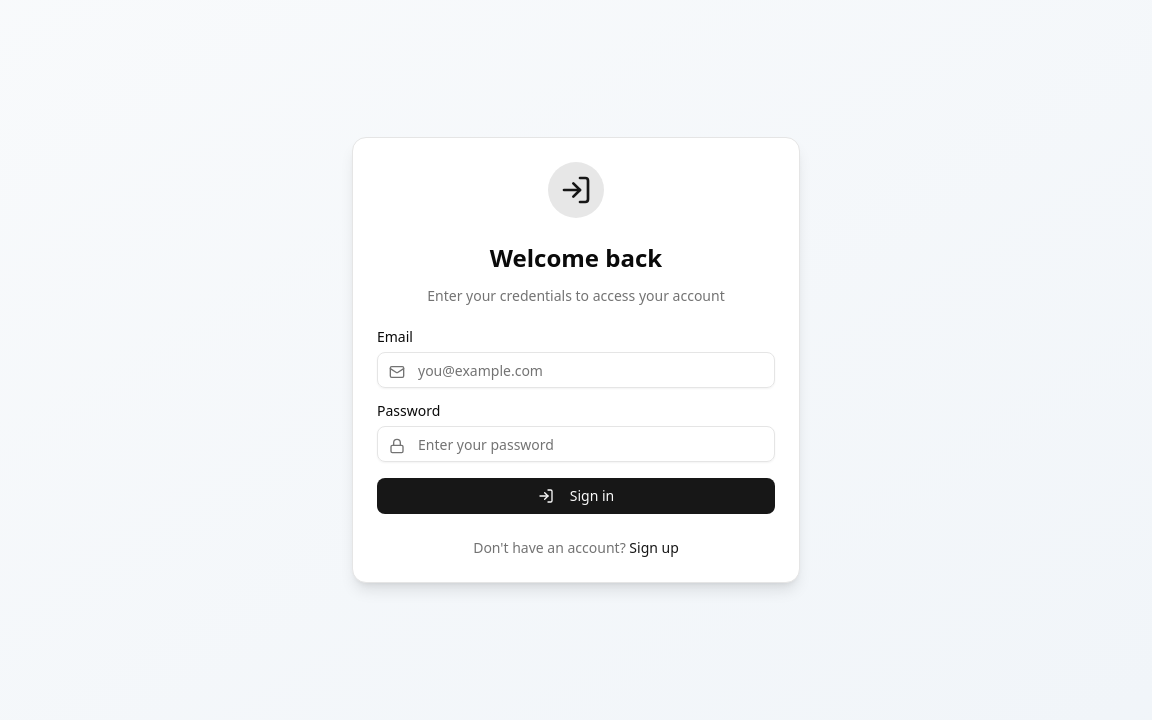
Test: Login › sends an individual login into the recovery-gated workflow
The image size is (1152, 720).
In the field with placeholder "you@example.com": (576, 370) [377,352,775,388], type "person@example.com"
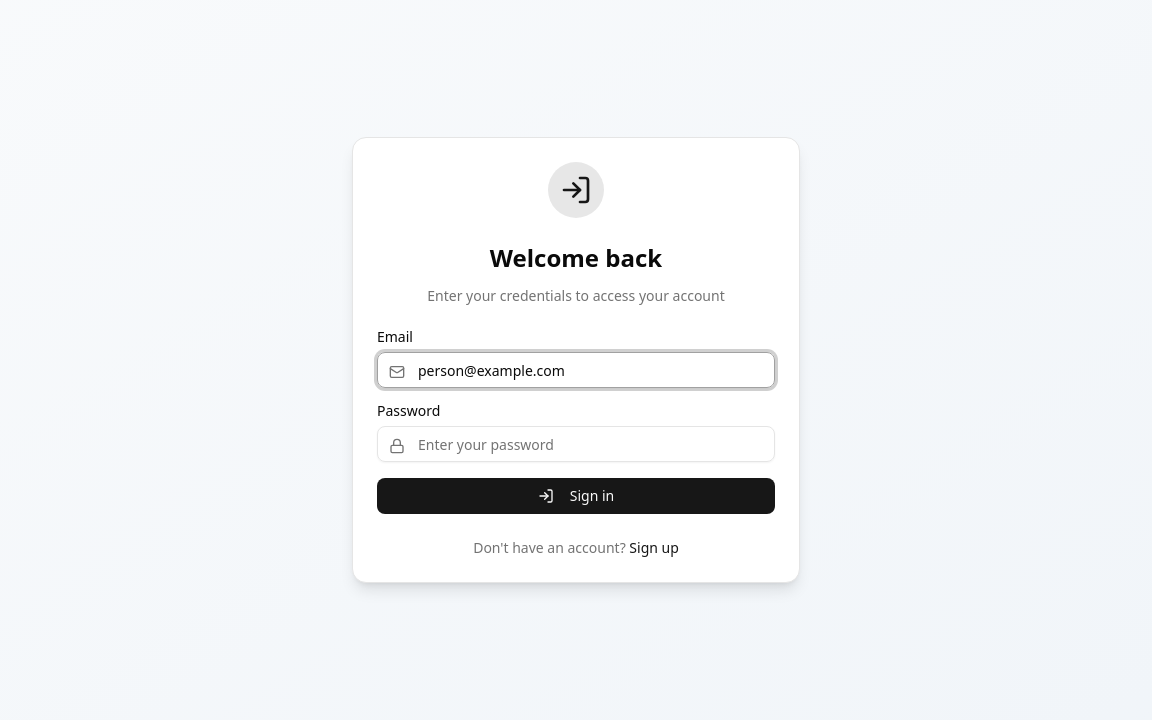
In the password field with placeholder "Enter your password": (576, 444) [377,426,775,462], type "secret"
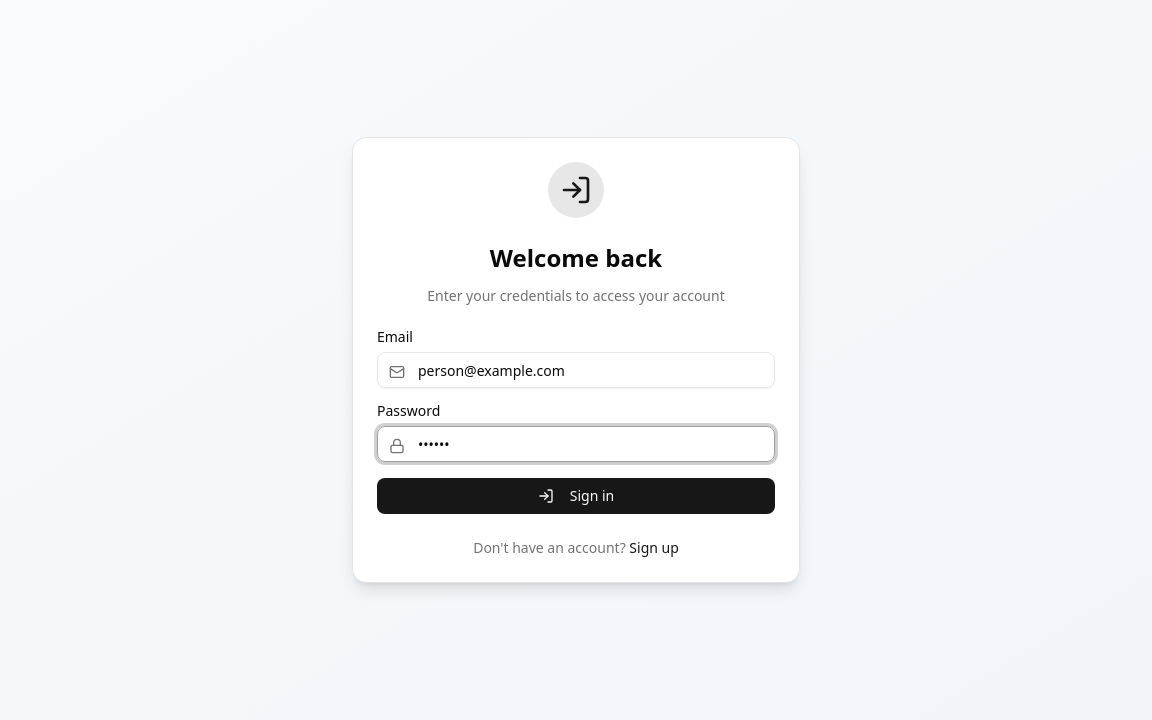
Click the button "Sign in": (576, 496) [377,478,775,514]
(page scrolled)
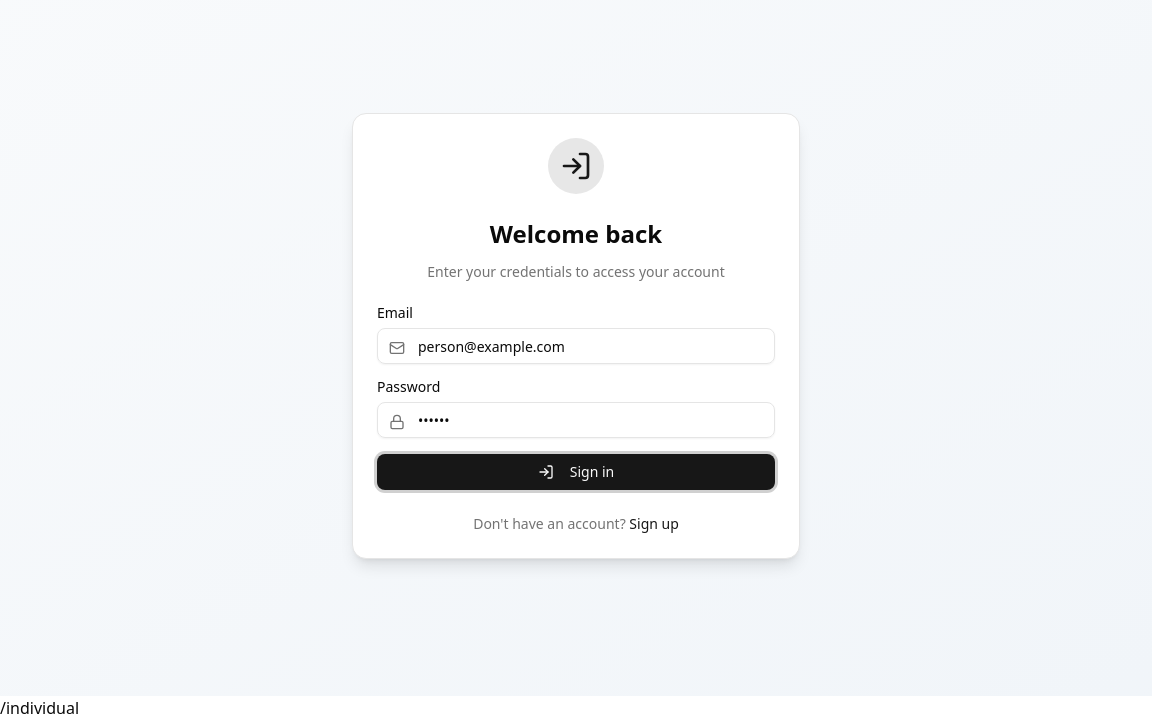
Expected: the text with test id "location" reads "/individual", [0,697,79,719]
